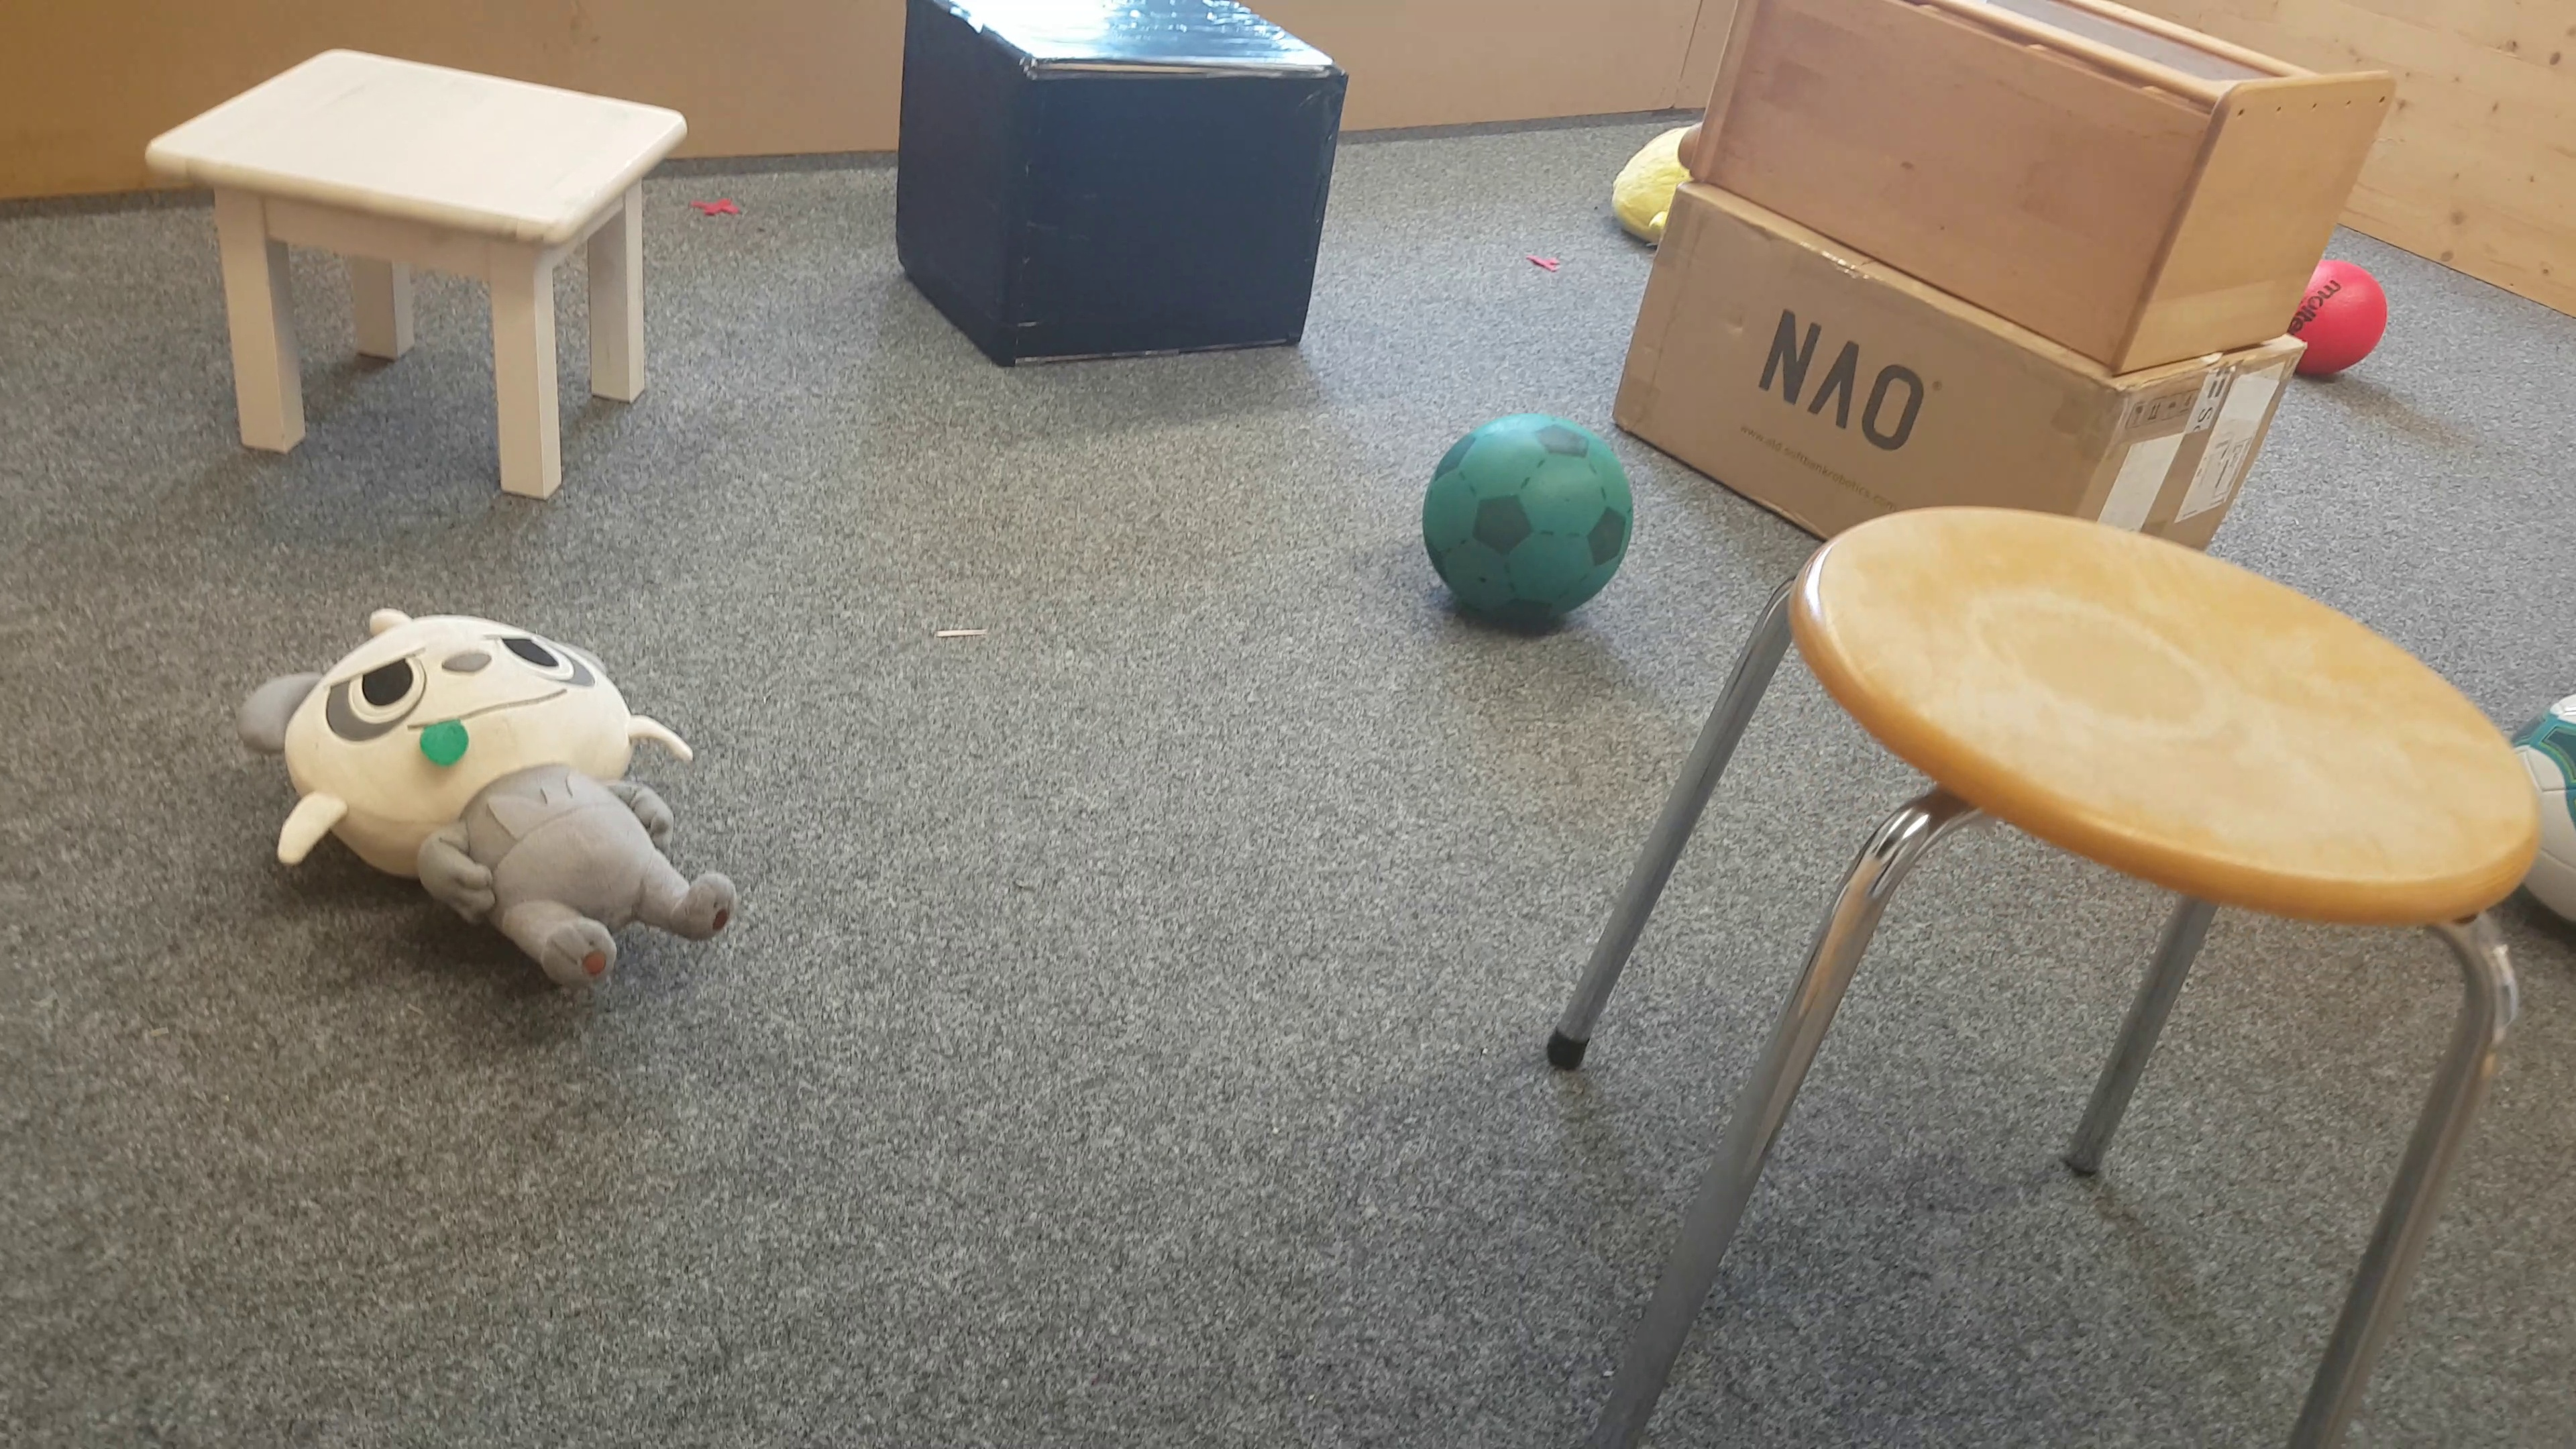grasp: (241, 609, 736, 1005), (1619, 113, 1691, 255)
kick: (1428, 412, 1633, 640), (2300, 255, 2387, 393), (2539, 688, 2576, 892)
push: (902, 4, 1350, 364)
